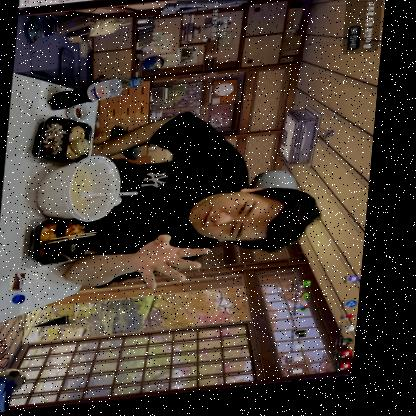streamer: (66, 103, 335, 300)
